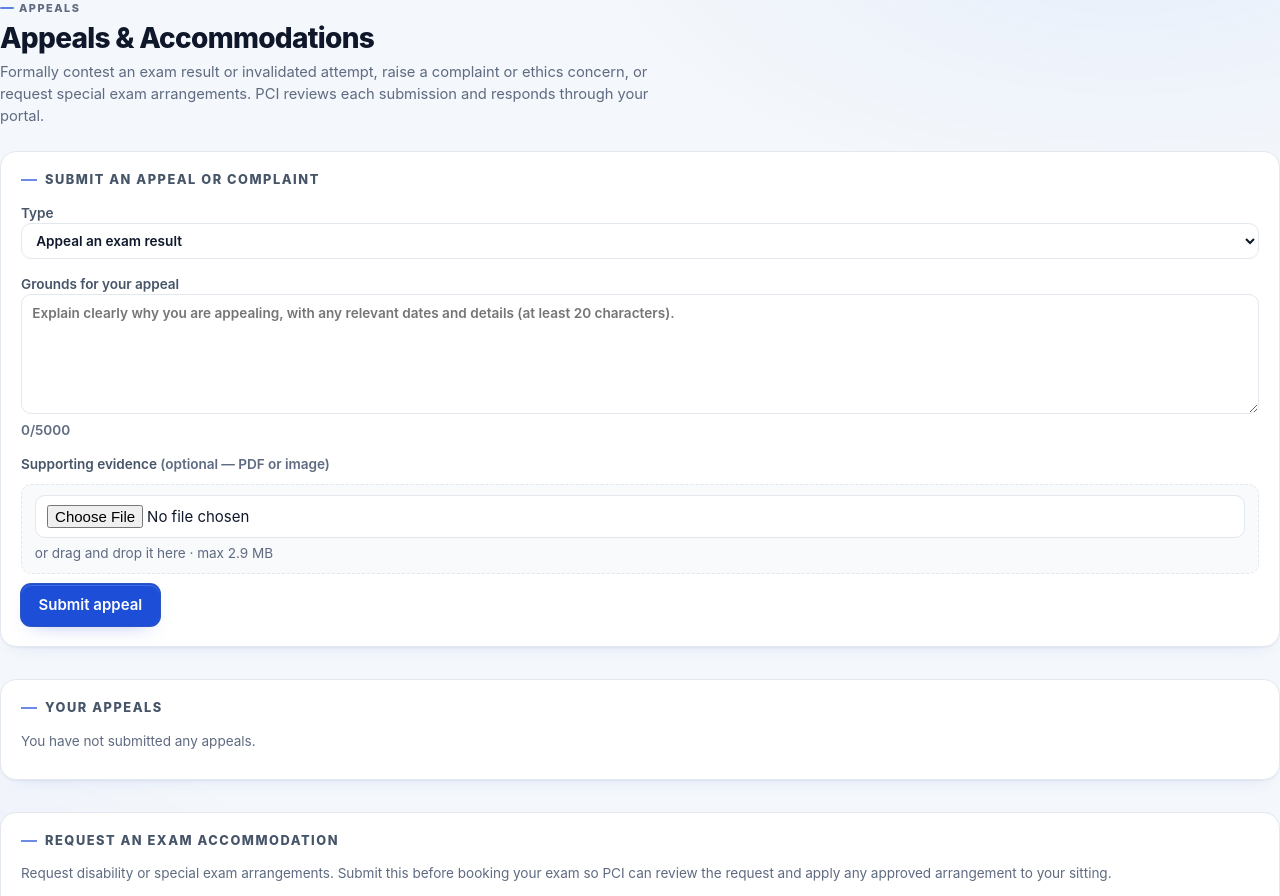
Appeals & Accommodations › blocks an appeal whose grounds are under 20 characters
The image size is (1280, 896).
Type "too short" into the text box labelled "Grounds for your appeal 0/5000" at {"x": 640, "y": 354}, box [21, 294, 1259, 414]
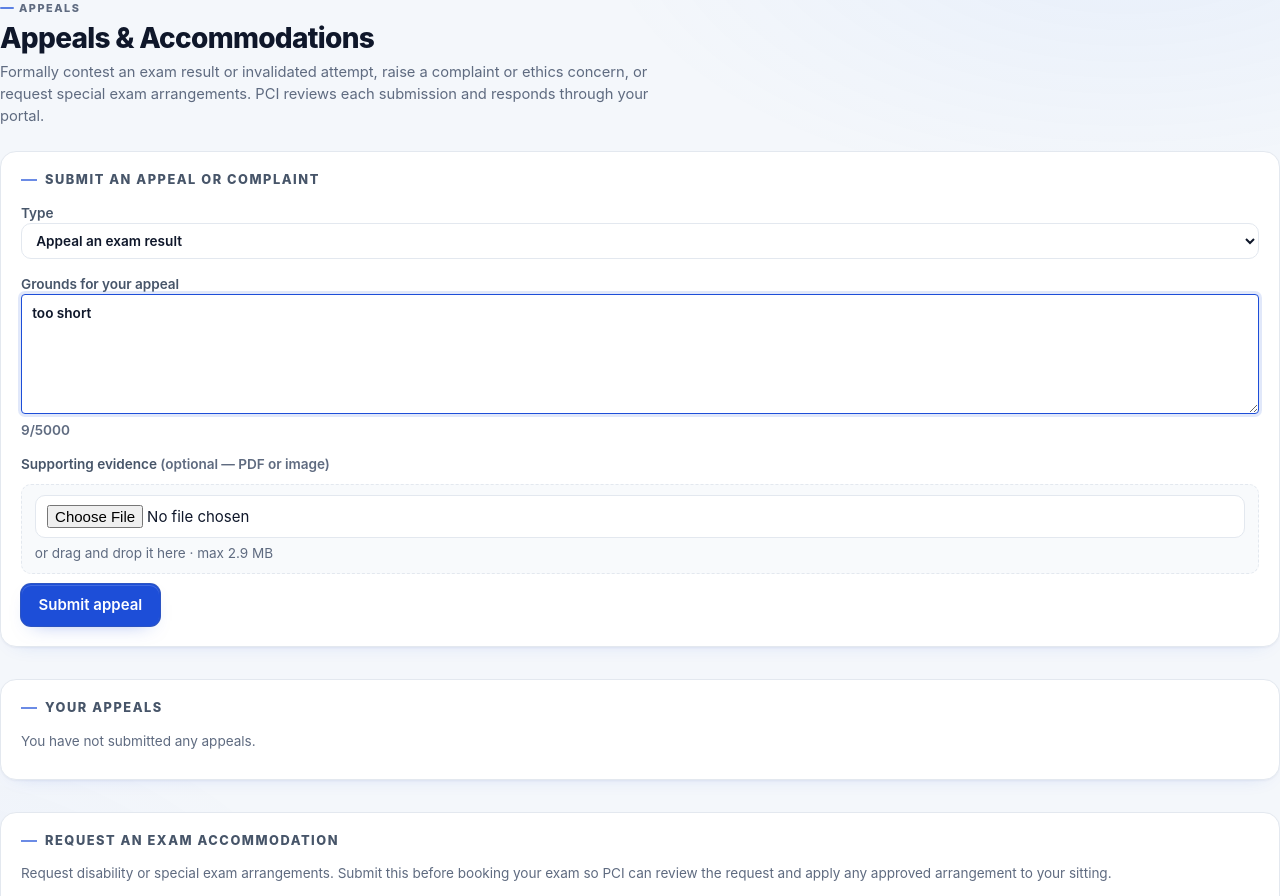
Click the button "Submit appeal" at {"x": 90, "y": 605}, box [21, 584, 160, 626]
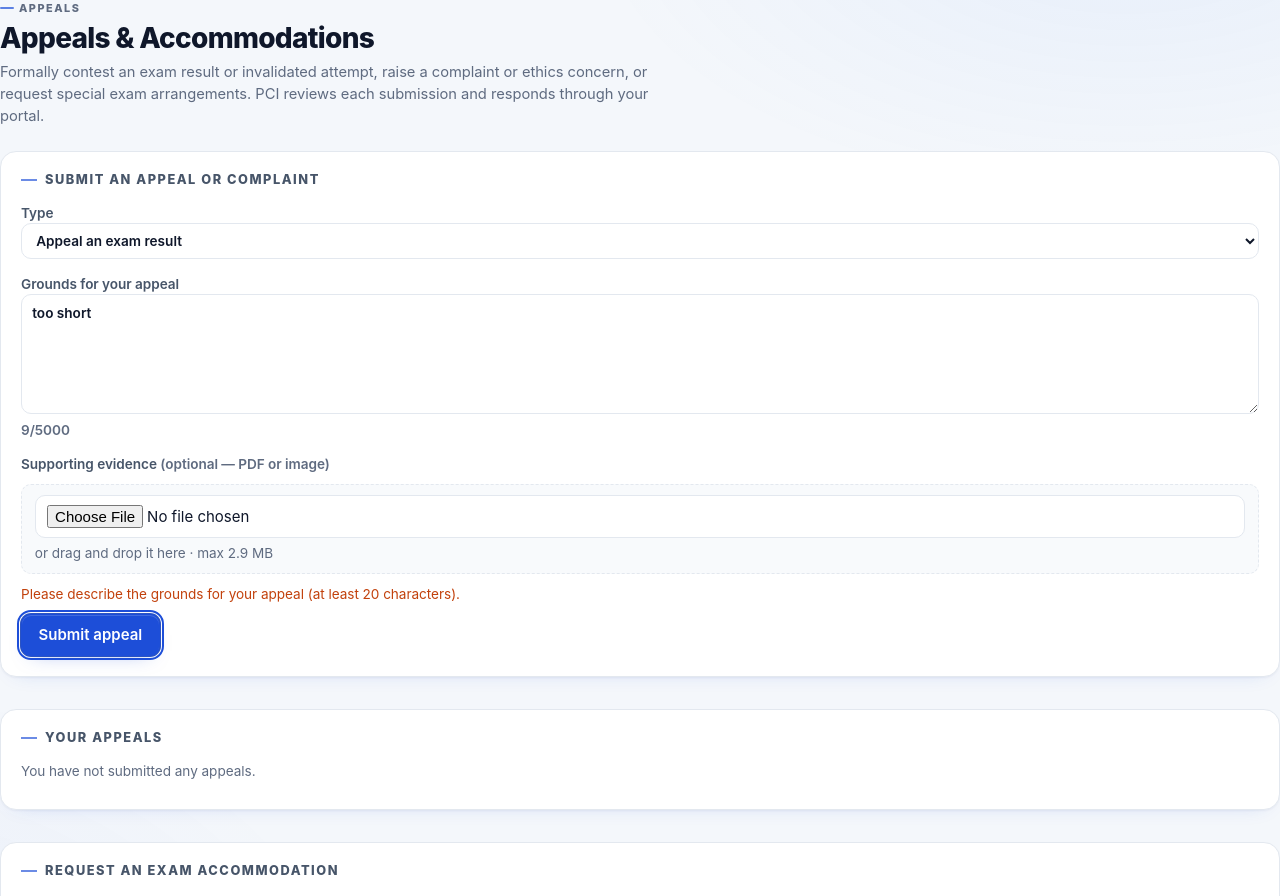
Now the text "Please describe the grounds for your appeal (at least 20 characters)." is shown, box [21, 586, 460, 602]
